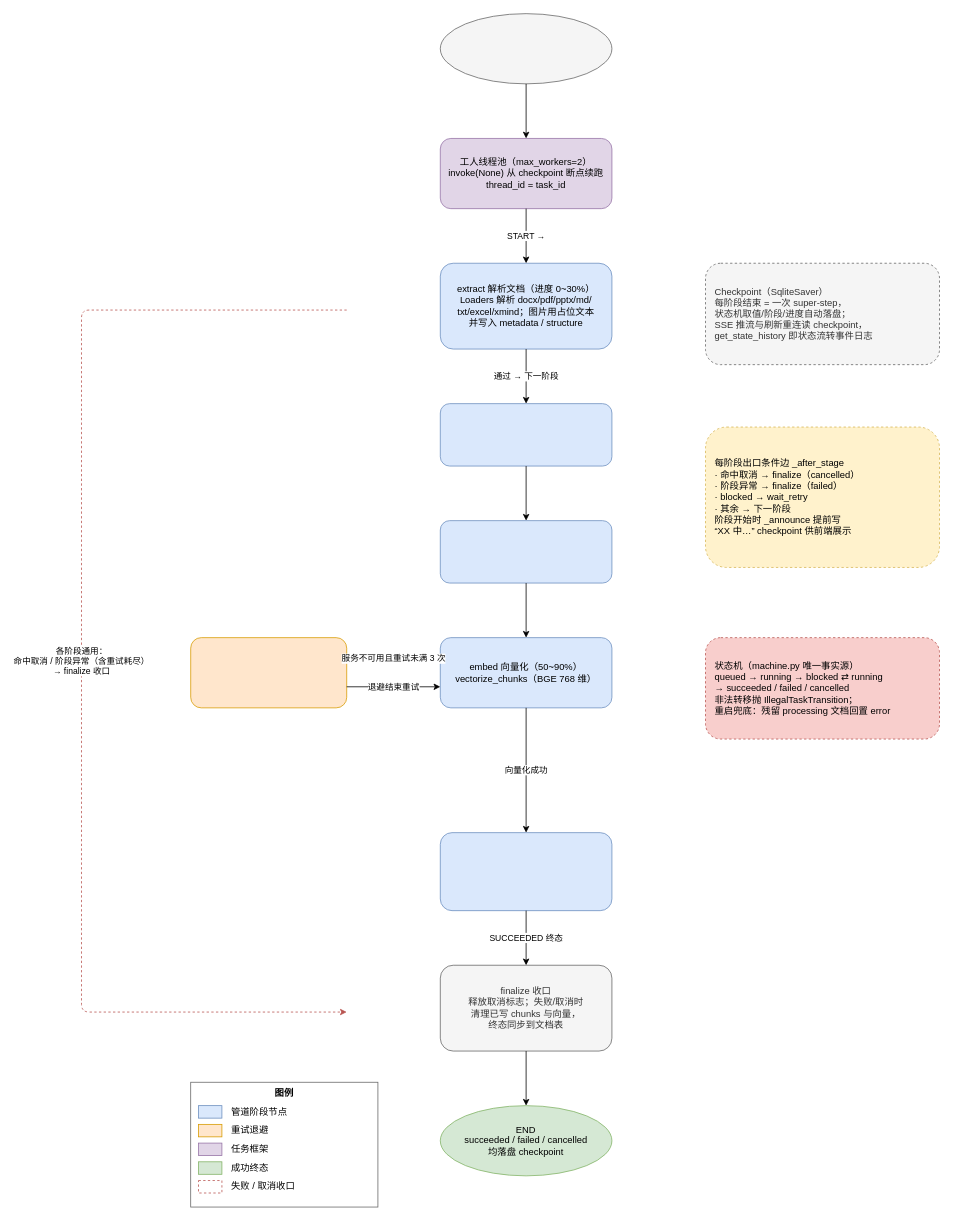
Image size: 953x1221. Some labels were removed from this diagram. The centre of each missing label's shape, as x and y in pixels:
"chunk 语义切块（40~50%） semantic_chunk → chunks 列表" belongs at point (526, 551).
"clean 清洗文本（30~40%） 标准化文本清洗流程" belongs at point (526, 434).
"index 写入索引（90~100%） SQLite chunks 表（含向量字节） + ChromaDB 向量库" belongs at point (526, 871).
"wait_retry blocked 退避等待 2 秒 重试计数 +1" belongs at point (268, 672).
"上传触发 POST /api/documents/upload submit_task：先落盘 queued checkpoint" belongs at point (526, 48).
